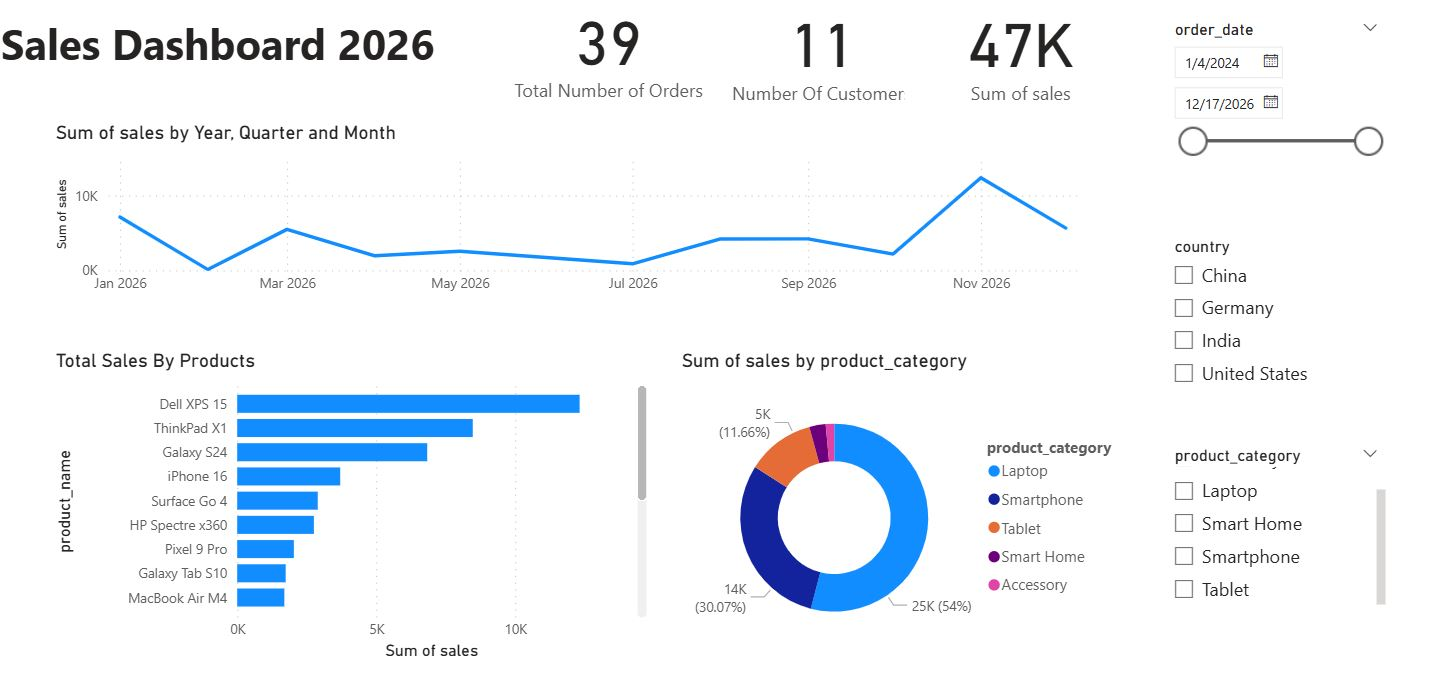

The page's visual inventory and layout, read from the dashboard file:
{"tool":"powerbi","page":{"name":"Page 1","canvas":[1280,720],"ordinal":0},"visuals":[{"type":"barChart","title":"Total Sales By Products","fields":{"Category":["orders.product_name"],"Y":["Sum(orders.sales)"]},"box":[48.6,342.4,534,280.1],"z":0},{"type":"donutChart","fields":{"Y":["Sum(orders.sales)"],"Category":["orders.product_category"]},"box":[604,342.4,406.6,280.1],"z":1000},{"type":"card","fields":{"Values":["CountNonNull(orders.order_id)"]},"box":[441.6,23.3,205.2,103.1],"z":2000},{"type":"card","fields":{"Values":["Count(orders.customer_id)"]},"box":[630.3,22.4,205.2,108.9],"z":3000},{"type":"card","fields":{"Values":["Sum(orders.sales)"]},"box":[807.3,27.2,205.2,99.2],"z":4000},{"type":"lineChart","fields":{"Y":["Sum(orders.sales)"],"Category":["orders.order_date.Variation.Date Hierarchy.Year","orders.order_date.Variation.Date Hierarchy.Quarter","orders.order_date.Variation.Date Hierarchy.Month","orders.order_date.Variation.Date Hierarchy.Day"]},"box":[48.6,140.1,931.8,162.4],"z":5000},{"type":"slicer","fields":{"Values":["orders.order_date"]},"box":[1032.9,45.7,205.2,170.2],"z":6000},{"type":"slicer","fields":{"Values":["orders.product_category"]},"box":[1032.9,424.1,205.2,149.8],"z":7000},{"type":"slicer","fields":{"Values":["customers.country"]},"box":[1032.9,238.3,205.2,149.8],"z":8000},{"type":"textbox","box":[0,40.9,399.8,85.6],"z":8001}]}

Visuals, with their boxes on the page's 1280x720 design canvas (x1, y1, x2, y2). These are canvas units, not pixel positions in the 1431x690 screenshot, which may show the page scaled, cropped or inside an application window:
"Total Sales By Products" barChart: region(49, 342, 583, 622)
donutChart - Sum(orders.sales) x orders.product_category: region(604, 342, 1011, 622)
card - CountNonNull(orders.order_id): region(442, 23, 647, 126)
card - Count(orders.customer_id): region(630, 22, 836, 131)
card - Sum(orders.sales): region(807, 27, 1012, 126)
lineChart - Sum(orders.sales) x orders.order_date.Variation.Date Hierarchy.Year: region(49, 140, 980, 302)
slicer - orders.order_date: region(1033, 46, 1238, 216)
slicer - orders.product_category: region(1033, 424, 1238, 574)
slicer - customers.country: region(1033, 238, 1238, 388)
textbox: region(0, 41, 400, 126)
